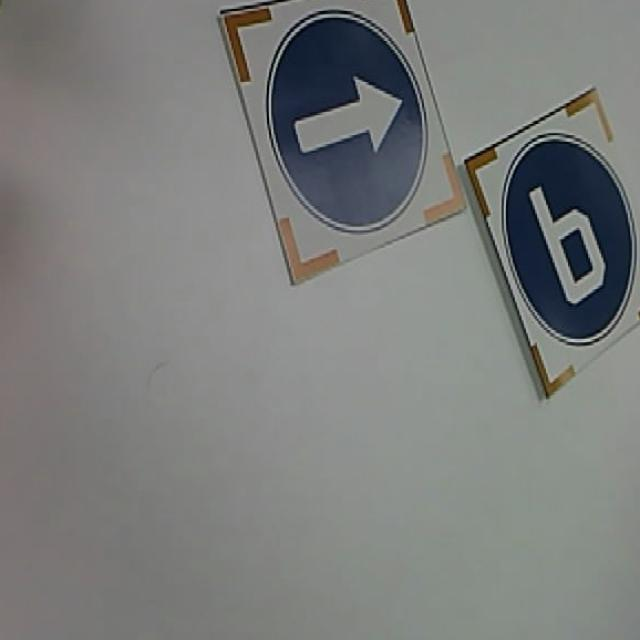parking: (462, 57, 640, 417)
straight: (222, 0, 458, 311)
